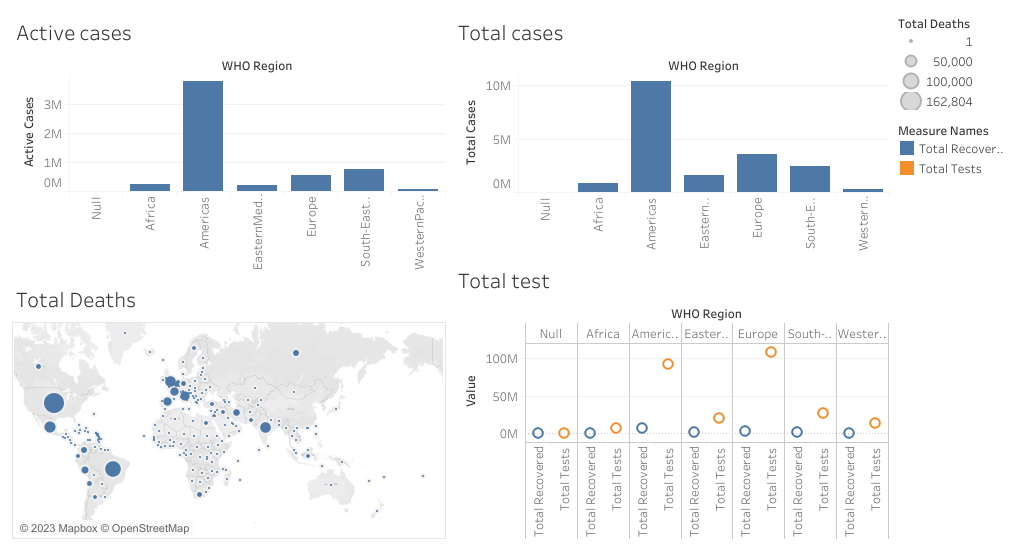

What the dashboard file says about the page in this screenshot:
{"tool":"tableau","page":{"name":"Dashboard 1","canvas":[1000,1000],"units":"permille","ordinal":0},"visuals":[{"type":"worksheet","title":"Active Cases","mark":"Automatic","rows":["ActiveCases"],"cols":["WHO Region"],"box":[7.8,13.5,433.8,486.5]},{"type":"worksheet","title":"Total cases","mark":"Automatic","rows":["TotalCases"],"cols":["WHO Region"],"box":[441.6,13.5,433.9,450.2]},{"type":"legend","title":"Total Deaths","param":"[federated.0t9iph21nvuuja12tzdhu1lns79a].[sum:TotalDeaths:qk]","box":[875.5,13.5,116.7,193.9]},{"type":"legend","title":"Sheet 5","param":"[federated.0t9iph21nvuuja12tzdhu1lns79a].[:Measure Names]","box":[875.5,207.4,116.7,124.8]},{"type":"worksheet","title":"Sheet 5","mark":"Shape","cols":["WHO Region"],"box":[441.6,463.7,433.9,522.8]},{"type":"worksheet","title":"Total Deaths","mark":"Automatic","box":[7.8,500,433.8,486.5]}]}

Visuals, with their boxes on the dashboard's canvas, which has no fixed pixel size, in thousandths of its width and height (x1, y1, x2, y2). These are canvas units, not pixel positions in the 1019x550 screenshot, which may show the page scaled, cropped or inside an application window:
"Active Cases" worksheet: rect(8, 14, 442, 500)
"Total cases" worksheet: rect(442, 14, 876, 464)
"Total Deaths" legend: rect(876, 14, 992, 207)
"Sheet 5" legend: rect(876, 207, 992, 332)
"Sheet 5" worksheet (Shape marks): rect(442, 464, 876, 986)
"Total Deaths" worksheet: rect(8, 500, 442, 986)
